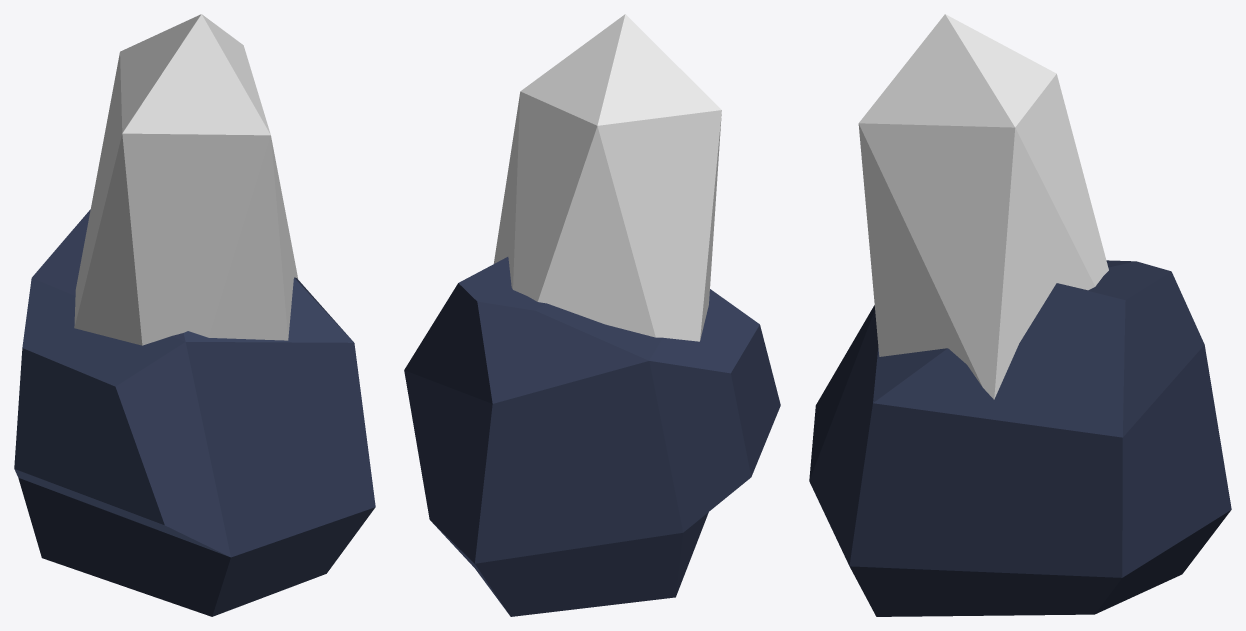
The model's file is RawAstra.002.fbx.
3 views of the same model, side by side, from view 1: azimuth 30°, elevation 25°; view 2: azimuth 150°, elevation 25°; view 3: azimuth 270°, elevation 25° (orthographic). The views are drawn at different scales.
Parts seen in each view (by area): view 1: RawAstra.002; view 2: RawAstra.002; view 3: RawAstra.002.
Boxes of the visible parts, x1,y1,x2,y2 form: RawAstra.002: [14, 14, 375, 616]; RawAstra.002: [404, 14, 780, 616]; RawAstra.002: [809, 14, 1231, 616].
Bounding box in the file's own units: 58.47 × 101 × 69.26.
